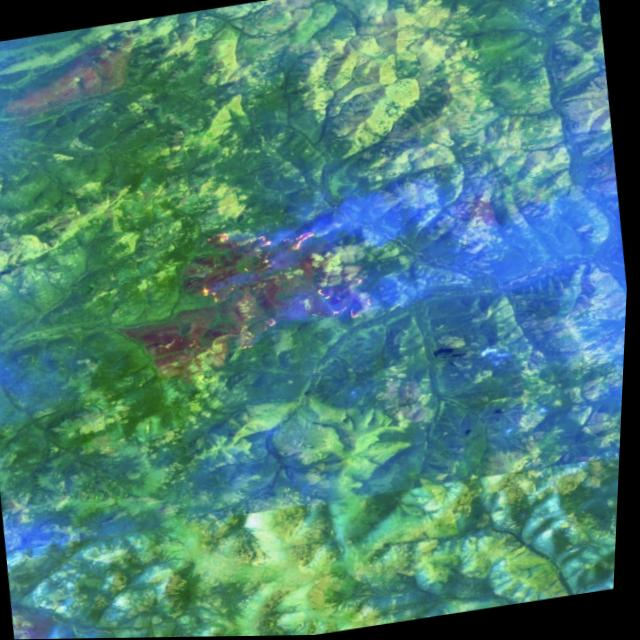fire: (171, 205, 339, 366)
